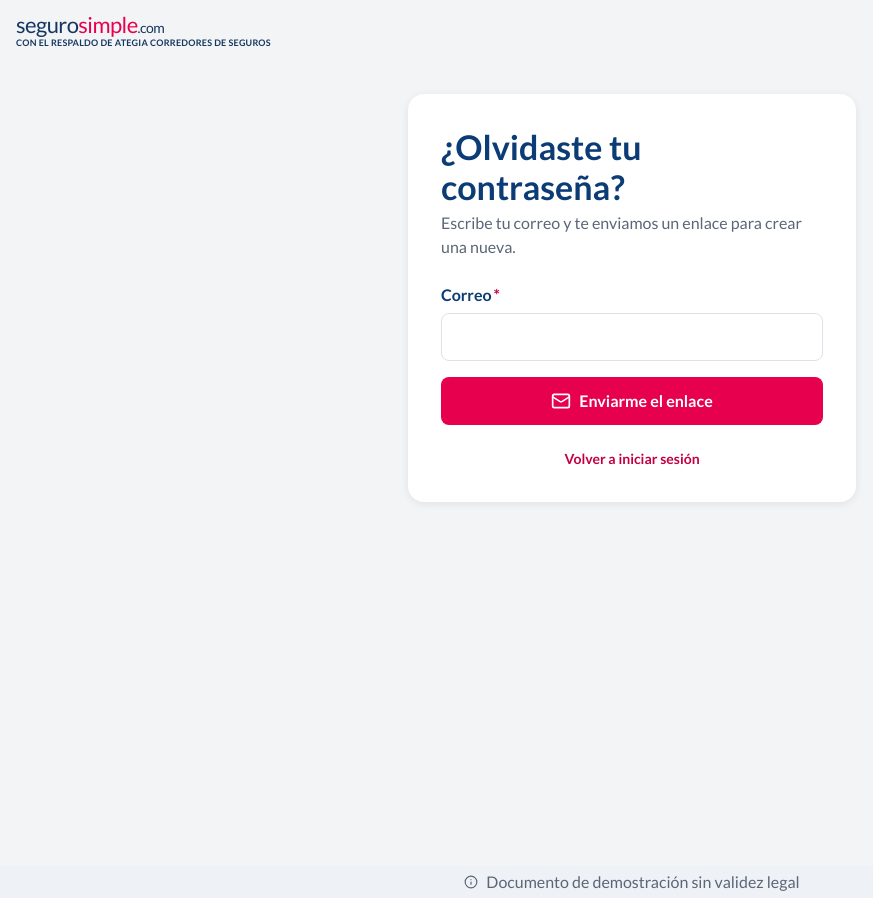
Scenario: RecuperarPasswordPage › valida el correo antes de enviar
In the field labelled "Correo*": coordinates (632, 337) [441,313,823,361], type "no-es-correo"
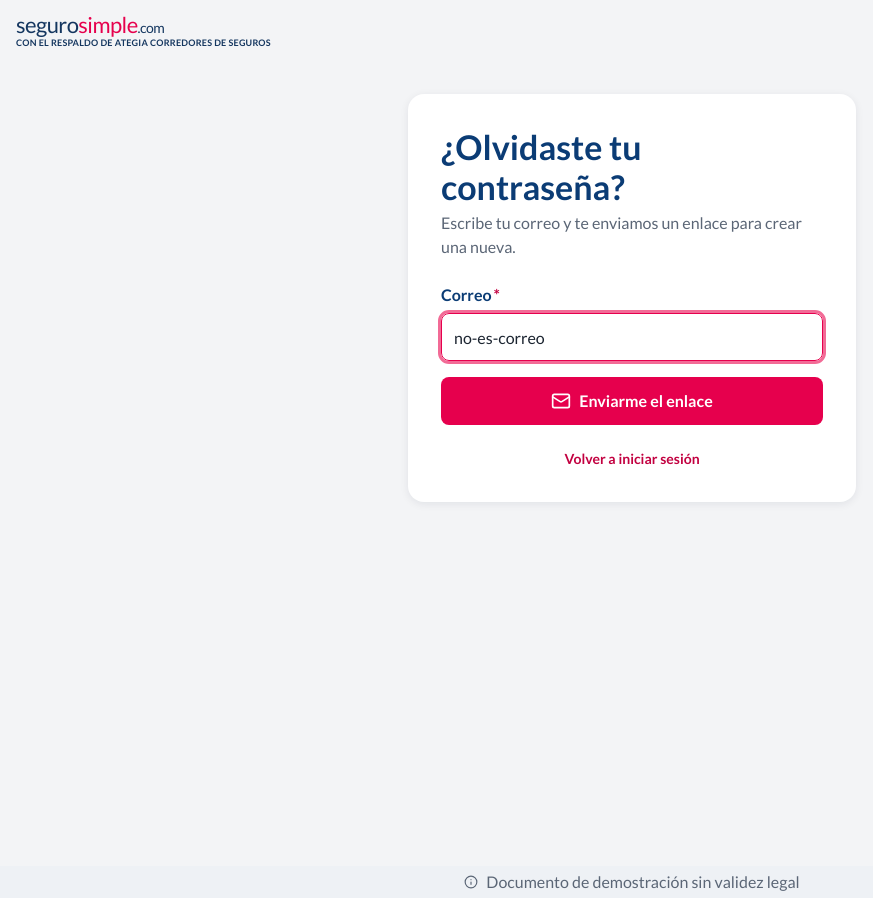
Click the button "Enviarme el enlace": coordinates (632, 401) [441,377,823,425]
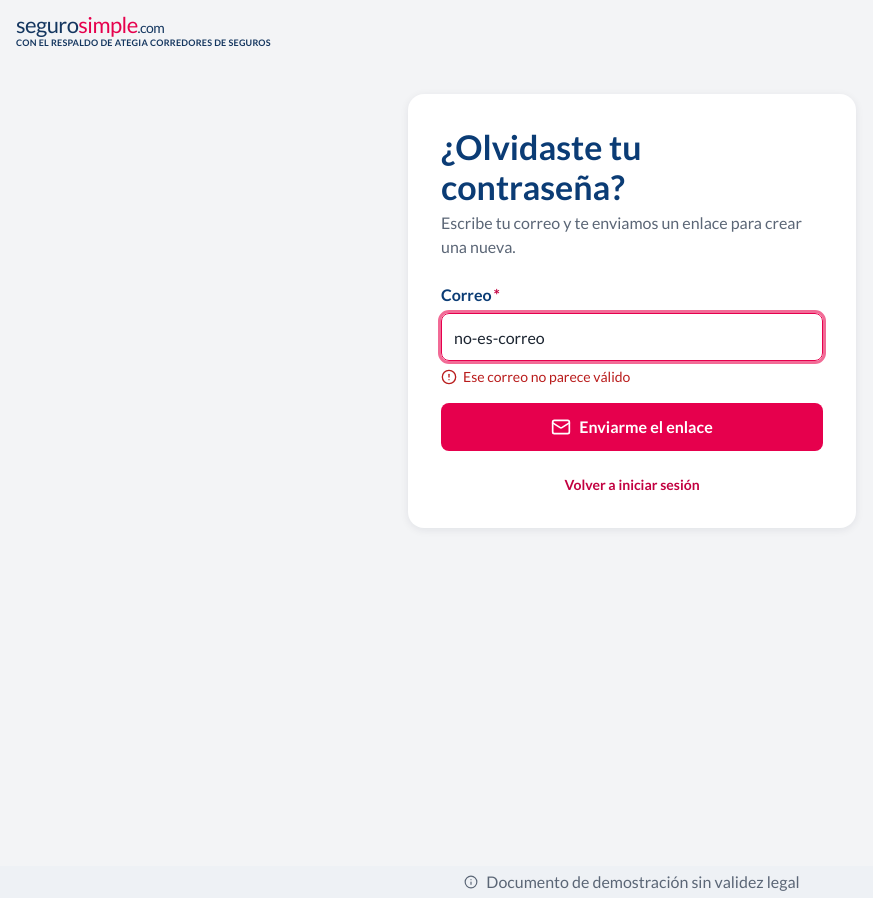
Check: the text "Ese correo no parece válido" is shown, box [463,367,630,387]
